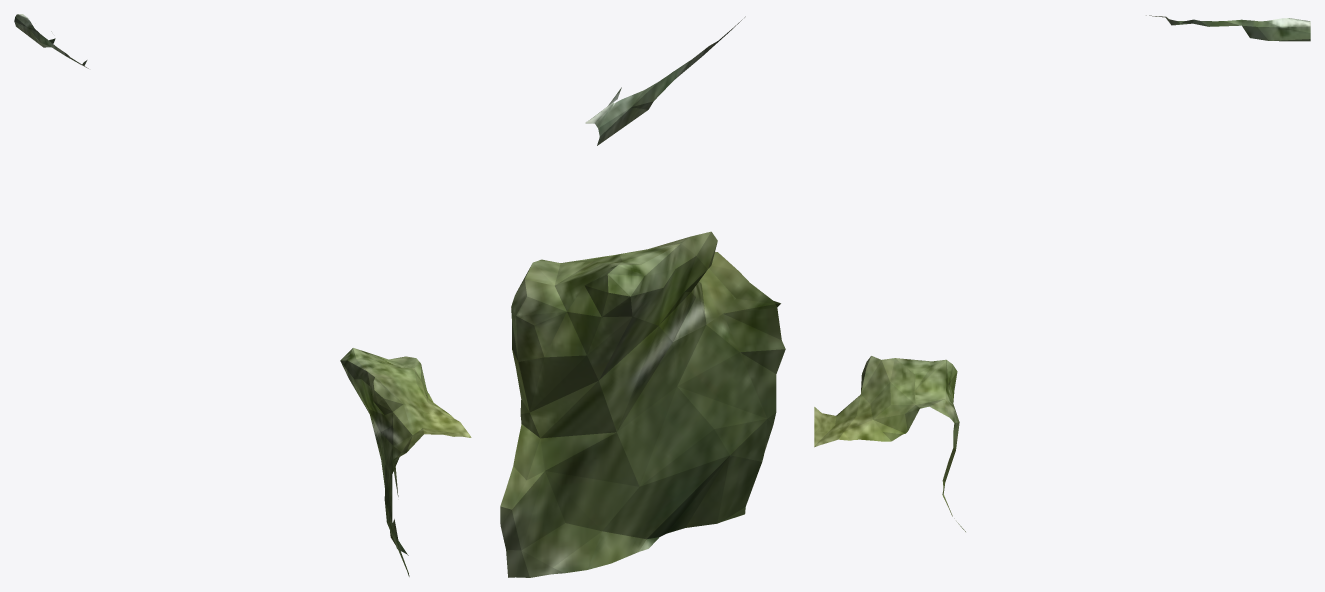
3 views of the same model, side by side, from view 1: azimuth 30°, elevation 25°; view 2: azimuth 150°, elevation 25°; view 3: azimuth 270°, elevation 25° (orthographic). The views are drawn at different scales.
Bounding box in the file's own units: 3.22 × 5.9 × 5.9.
Materials: 1 (1 with a texture image).
